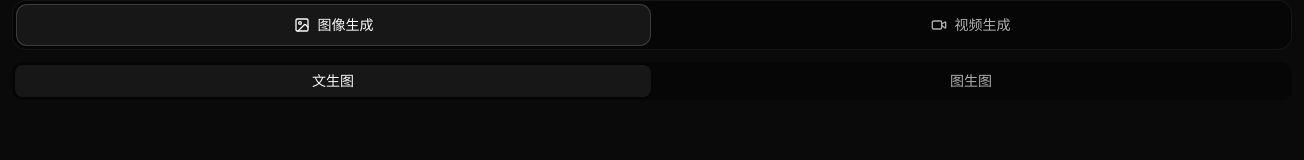
Scenario: ModeSelector › switches to the video tab and selects text-to-video by default
Click the tab "视频生成" at (970, 25), box [654, 5, 1287, 45]
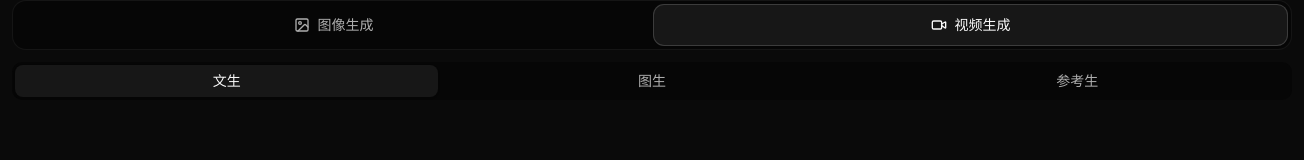
Expected: the button "文生图" is gone
